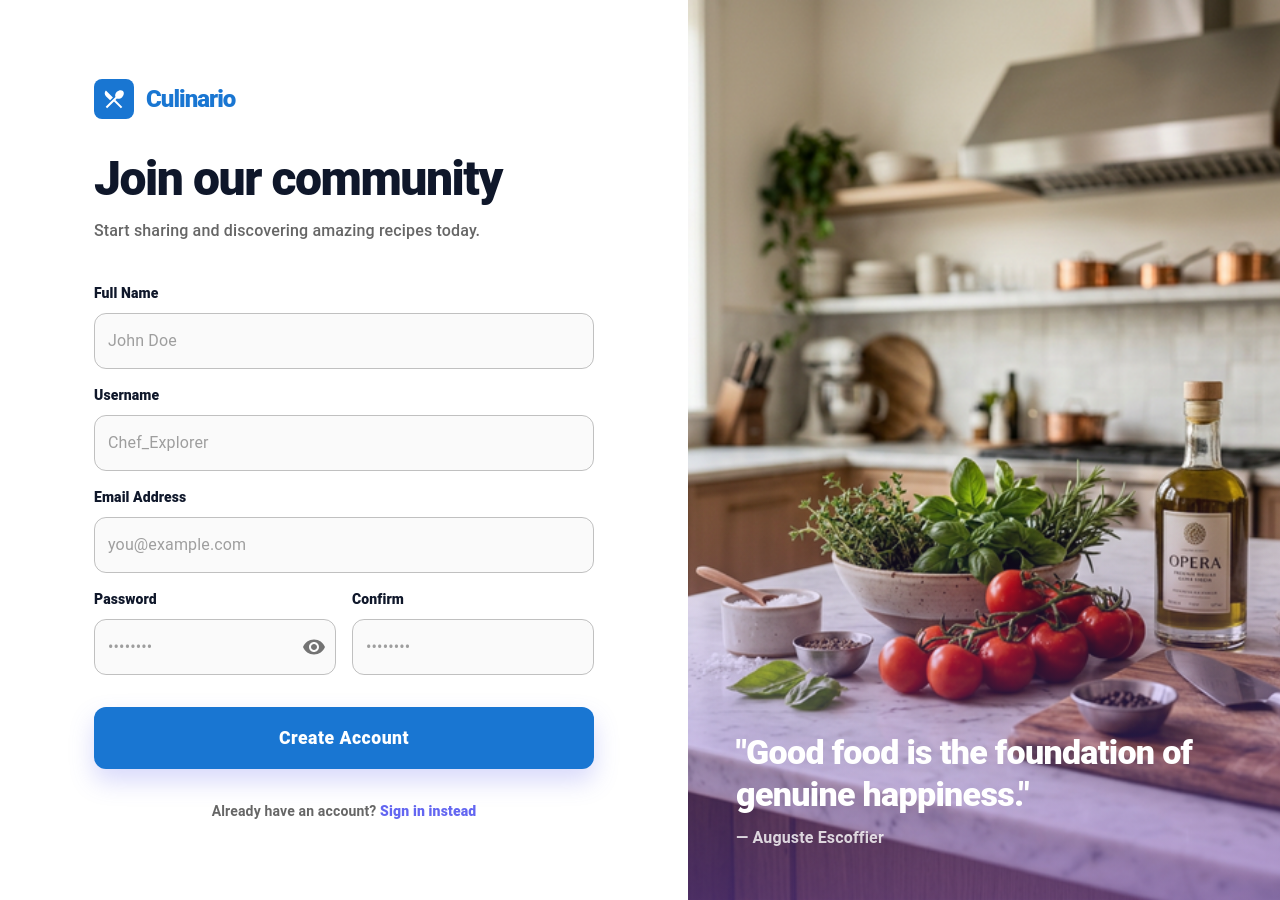
it: RegisterPage › shows validation errors when fields are empty
The width and height of the screenshot is (1280, 900).
Click the button "Create Account": coordinates (344, 738) x1=94 y1=706 x2=594 y2=769
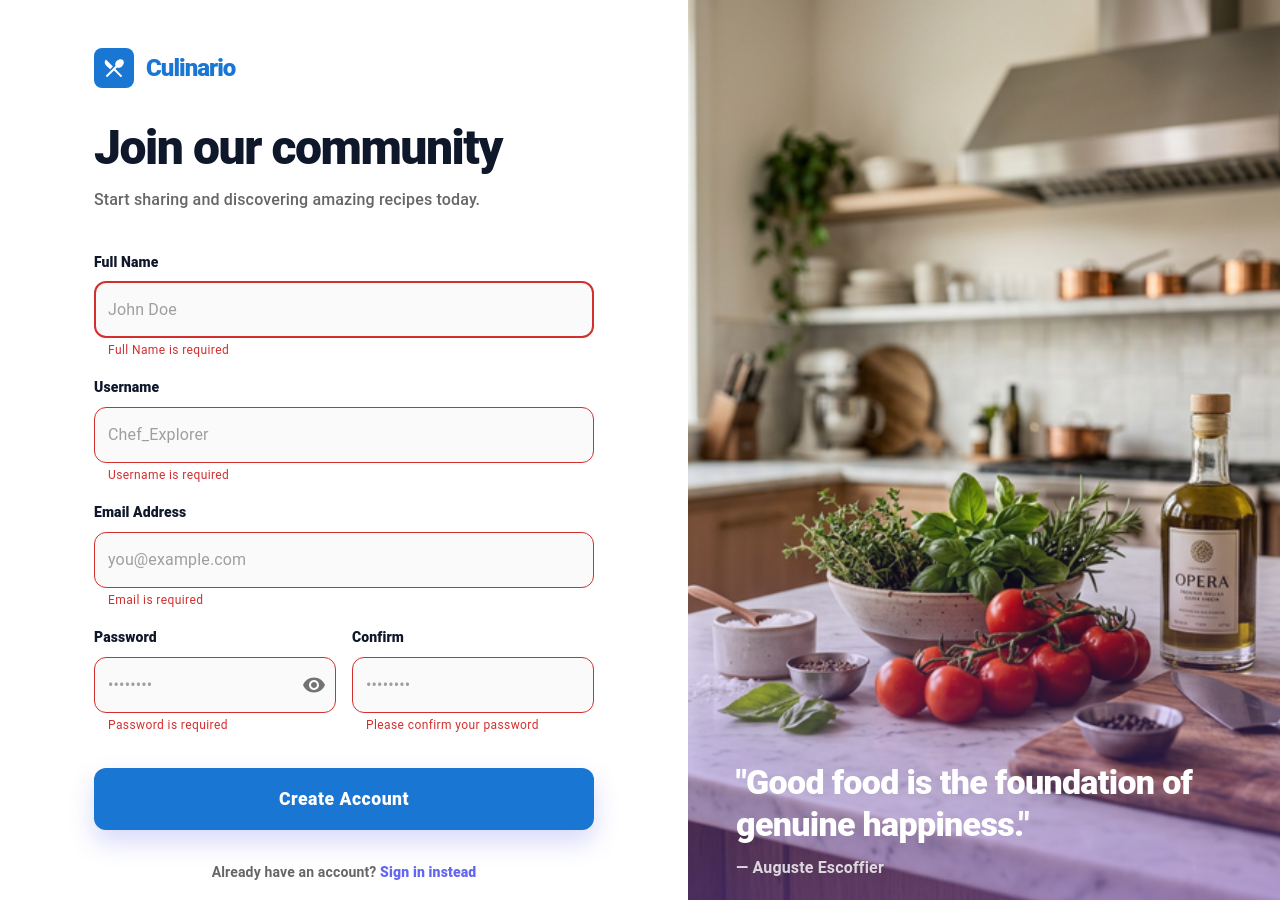
Check: the text "Username is required" is shown, box x1=108 y1=468 x2=229 y2=482
Check: the text "Email is required" is shown, box x1=108 y1=593 x2=203 y2=607
Check: the text "Password is required" is shown, box x1=108 y1=718 x2=228 y2=732
